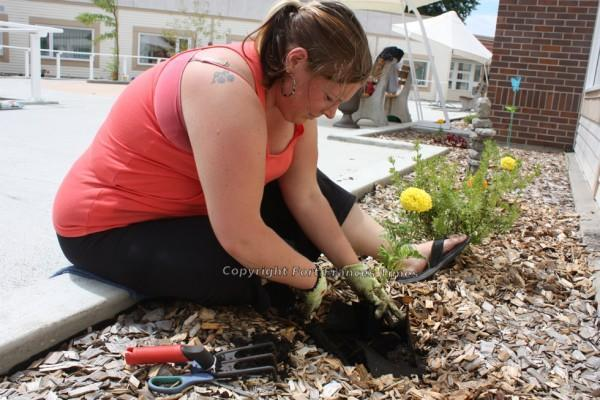person: (52, 1, 474, 327)
